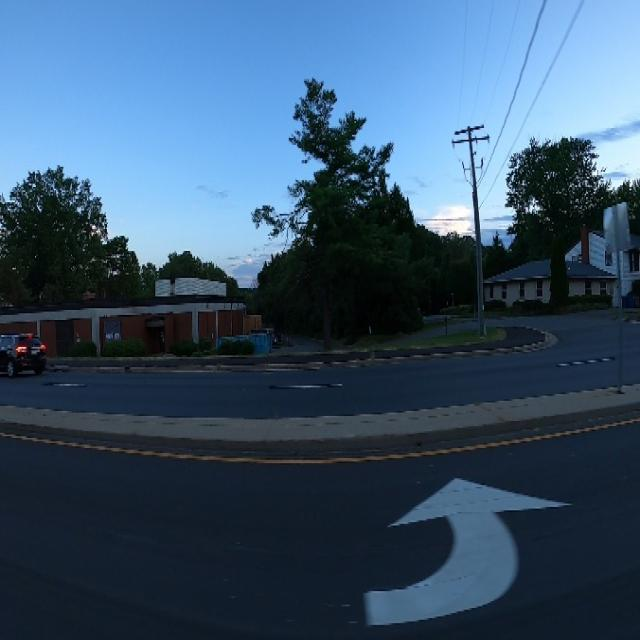car: (0, 320, 52, 384)
